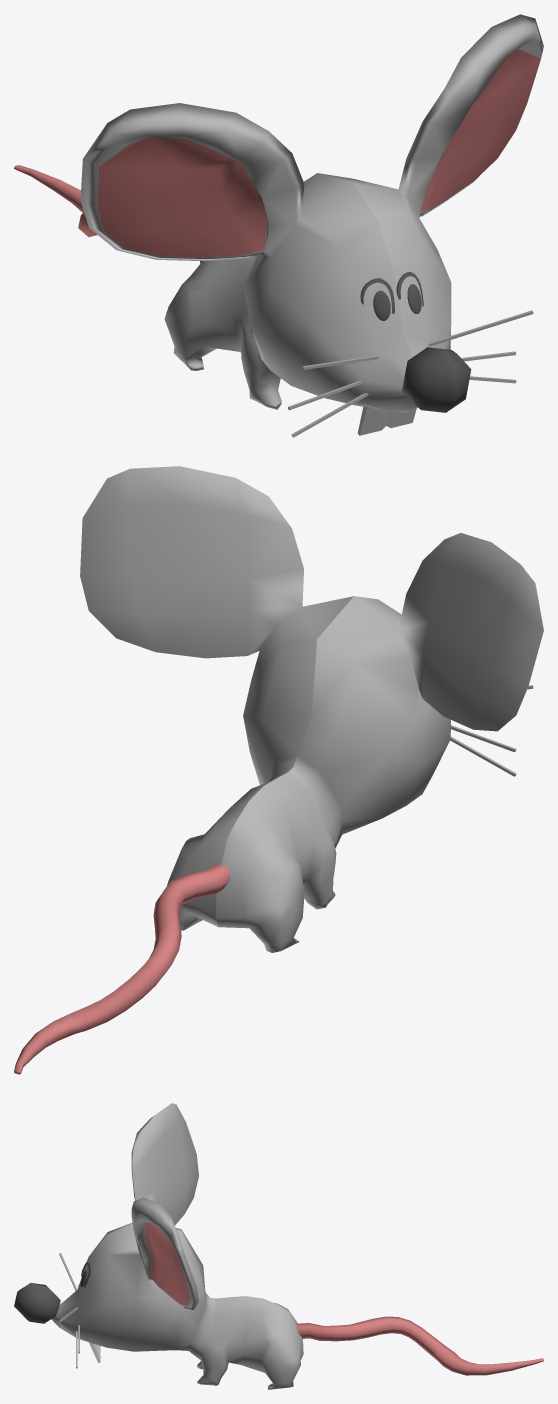
File: rat_model_only.fbx
3 renders of one model, top to bottom at view 1: azimuth 30°, elevation 25°; view 2: azimuth 150°, elevation 25°; view 3: azimuth 270°, elevation 25°, orthographic. The views are drawn at different scales.
Visible parts, largest first — view 1: polySurface34; view 2: polySurface34; view 3: polySurface34.
Part boxes in pixels (<box>): polySurface34: <box>14,14,543,437</box>; polySurface34: <box>14,466,543,1074</box>; polySurface34: <box>14,1103,543,1389</box>.
Bounding box in the file's own units: 3.82 × 2.86 × 6.3.
